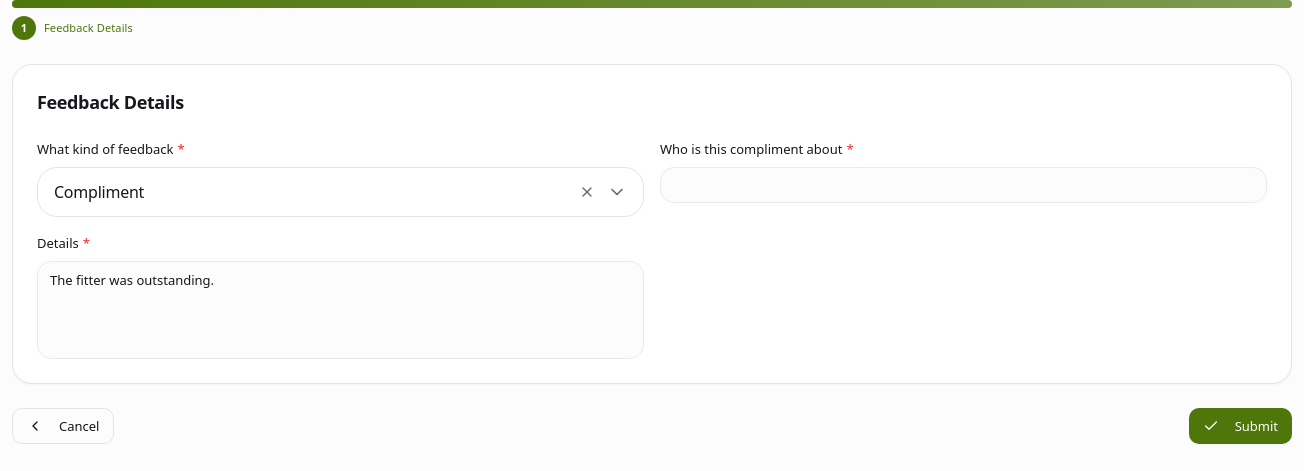
it: show_condition › requires the named subject when kind is compliment
The image size is (1304, 471).
Click the button with test id "submit-report-btn": (1240, 426) [1189,408,1292,444]
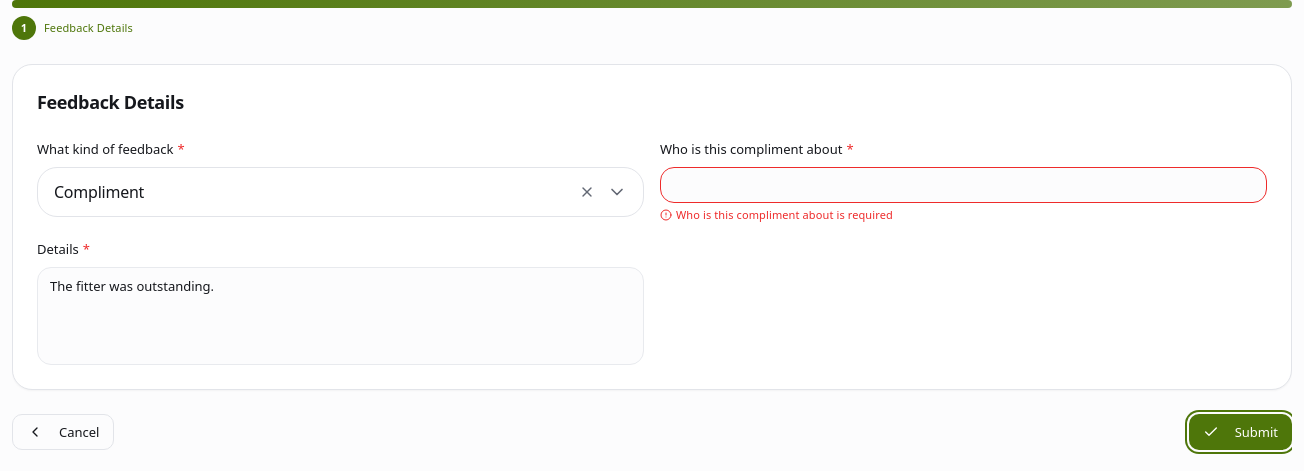
Result: the text "Who is this compliment about is required" is shown at [660,207,893,222]
